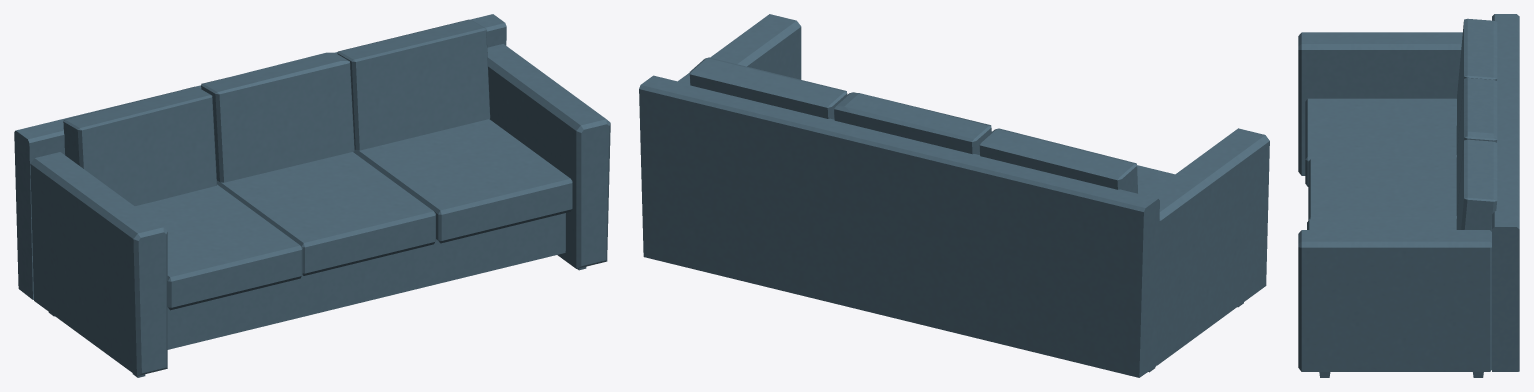
The model's file is 10_couch_large_blue_destructible.glb.
3 views of the same model, side by side, from view 1: azimuth 30°, elevation 25°; view 2: azimuth 150°, elevation 25°; view 3: azimuth 270°, elevation 25° (orthographic). The views are drawn at different scales.
Visible parts, largest first — view 1: Intact_Mesh; view 2: Intact_Mesh; view 3: Intact_Mesh.
Boxes of the visible parts, x1,y1,x2,y2 form: Intact_Mesh: (14, 14, 610, 377); Intact_Mesh: (639, 14, 1269, 377); Intact_Mesh: (1298, 14, 1519, 377).
Size of what is drawn, in the model's own units: 3.16 by 1.19 by 1.39.
Materials: 1 (1 with a texture image).
